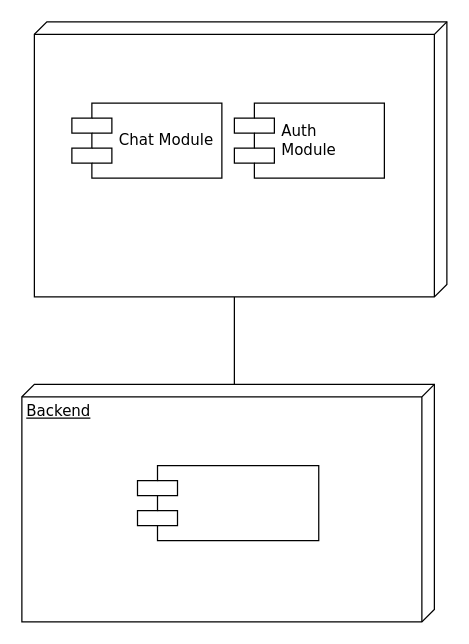
Image size: 469x644. Some labels were removed from this diagram. Each missing label, with the box of its shape:
Frontend: (33, 21, 447, 297)
Message Module: (136, 464, 319, 541)
